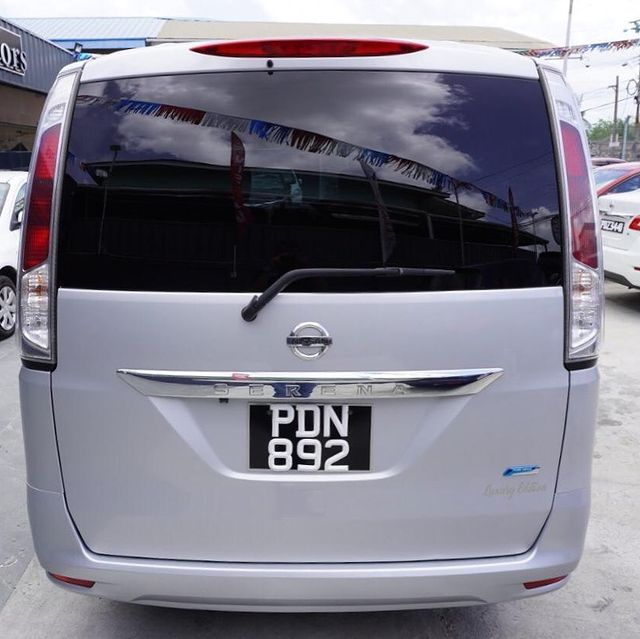License-Plate: (249, 403, 370, 469)
